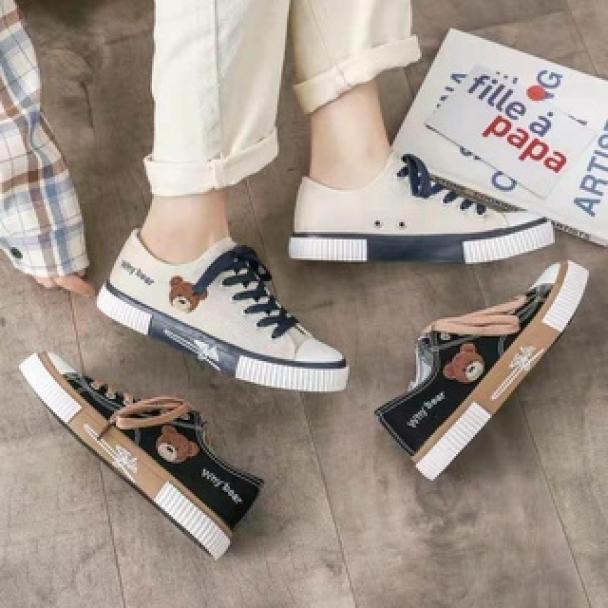Sepatu: (371, 254, 598, 482), (13, 345, 259, 549), (95, 228, 342, 390), (294, 171, 555, 257)
